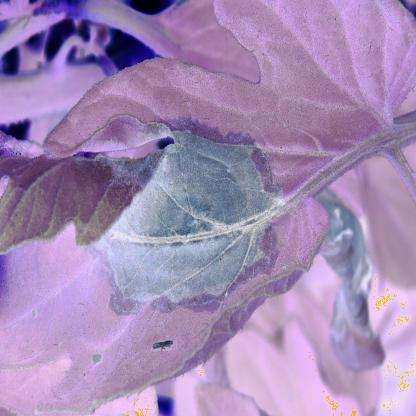tomato leaf late blight: (6, 15, 405, 406)
